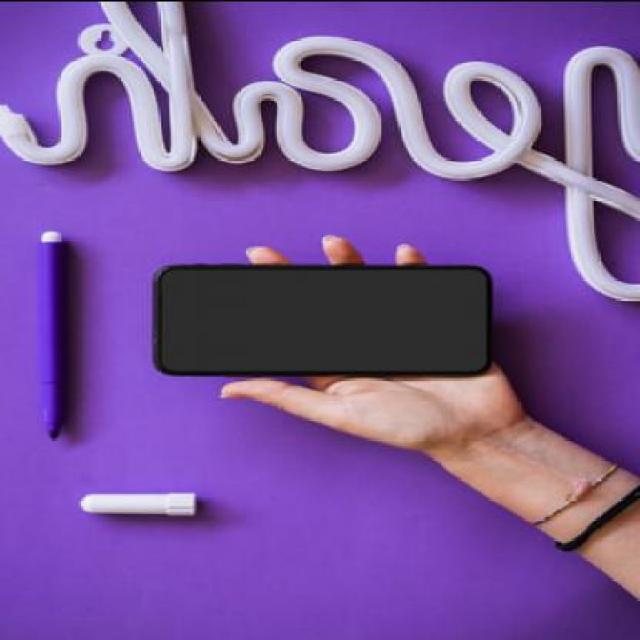phone: (154, 262, 492, 376)
